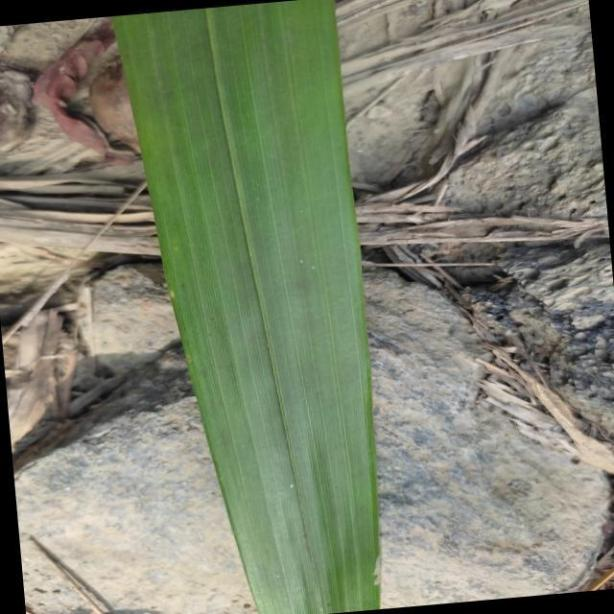Healthy: (112, 6, 376, 614)
